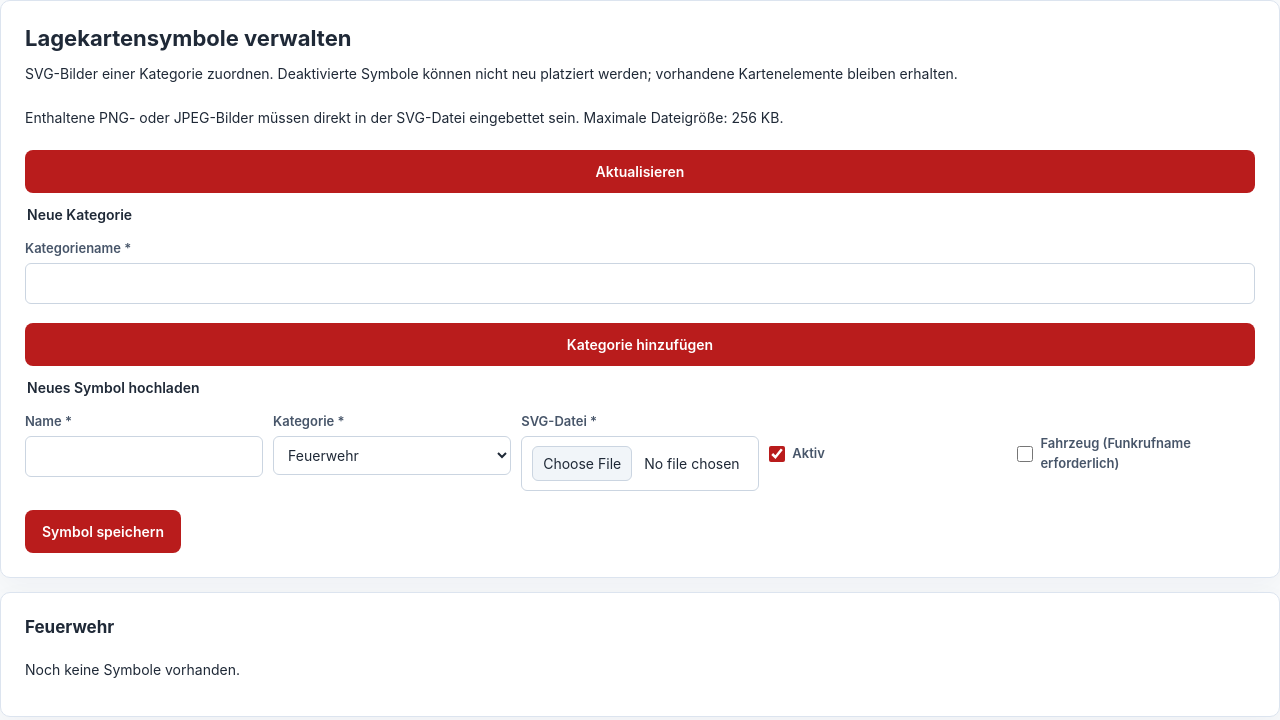
Scenario: validates category names and keeps input after a duplicate-category error
Expected: the heading "Feuerwehr" is shown, [25,617,114,637]
Click the button "Kategorie hinzufügen" at (640, 344), box [25,323,1255,366]
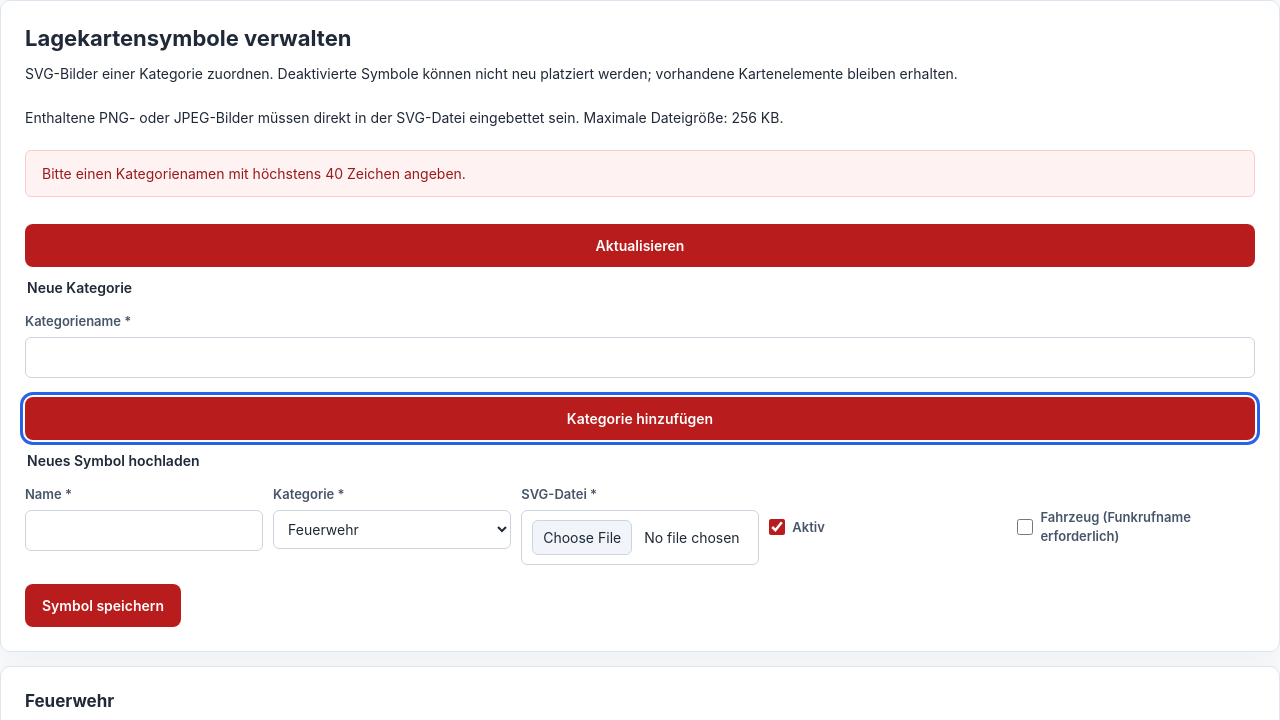
Result: the message shows "Kategorienamen" at [42,165,466,182]
Type "Feuerwehr" into the field labelled "Kategoriename *" at (640, 357), box [25,336,1255,378]
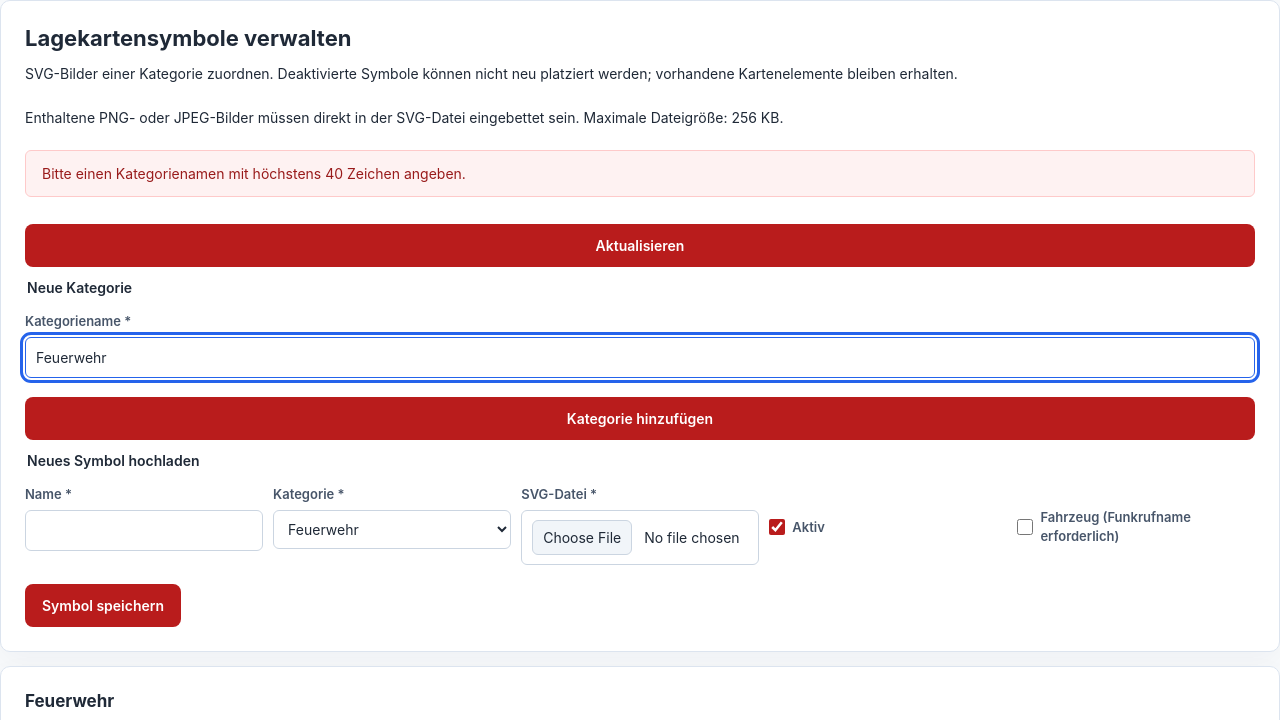
Click the button "Kategorie hinzufügen" at (640, 418), box [25,396,1255,440]
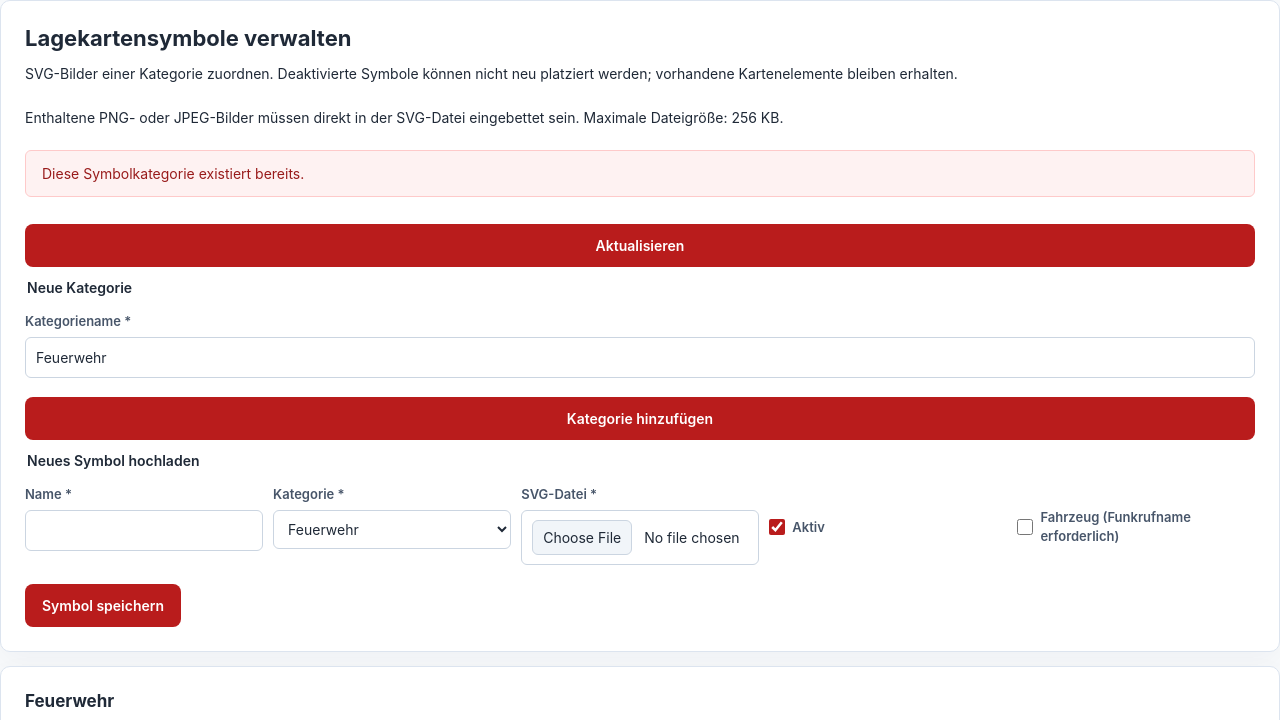
Result: the message shows "existiert bereits" at [42,165,304,182]
